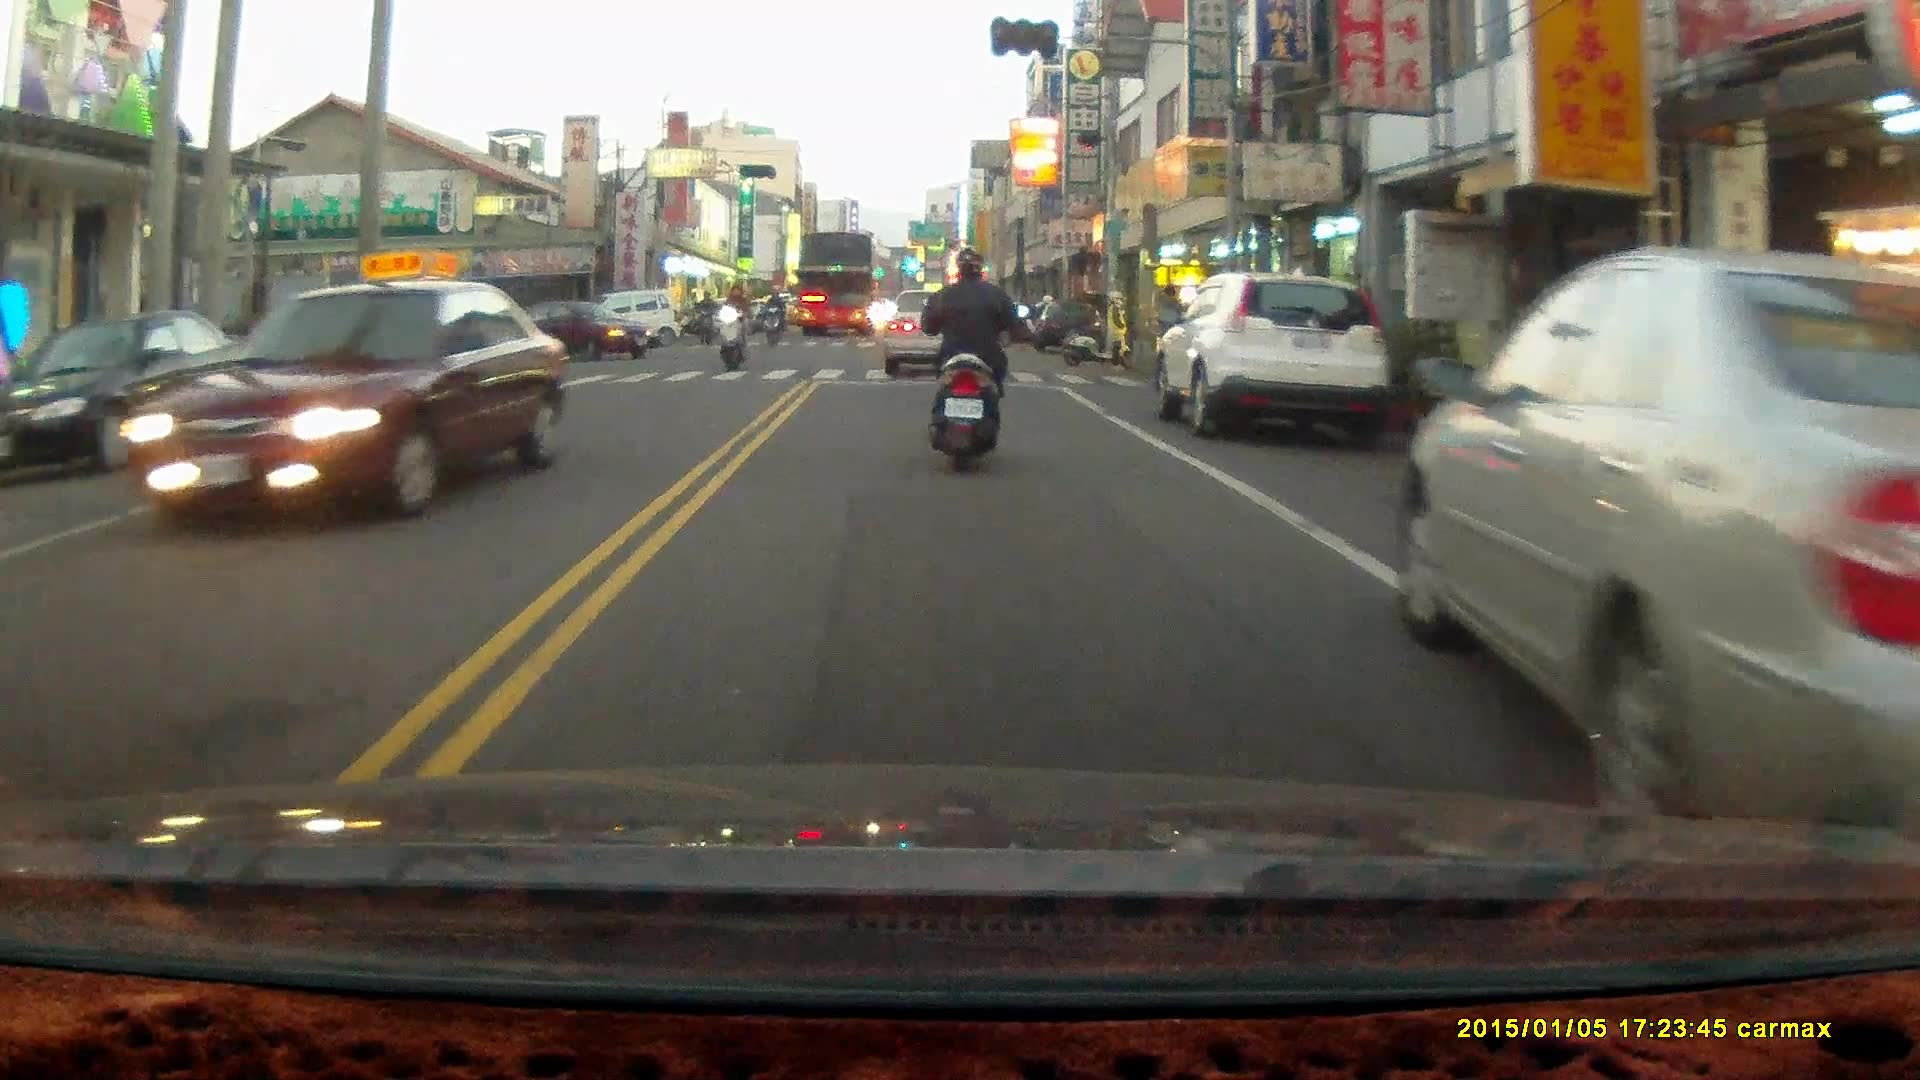pedestrian: (1153, 284, 1183, 384), (1101, 291, 1129, 374)
rider: (919, 245, 1029, 476), (713, 281, 750, 373), (691, 287, 715, 346), (762, 287, 783, 350)
vehicle: (1395, 245, 1920, 815), (124, 278, 569, 529), (1, 313, 260, 475), (1155, 275, 1392, 442), (793, 230, 881, 342), (881, 292, 986, 378)
